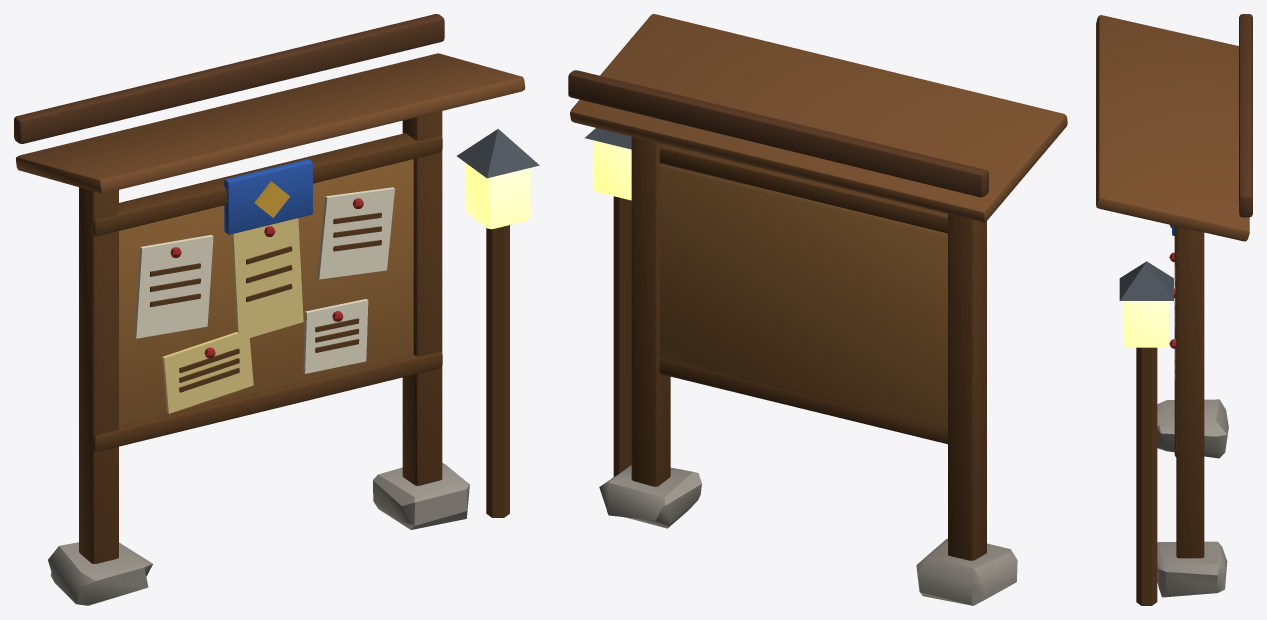
The model's file is tablica_ogloszen.glb.
The picture shows the model from 3 angles, left to right: view 1: azimuth 30°, elevation 25°; view 2: azimuth 150°, elevation 25°; view 3: azimuth 270°, elevation 25°; orthographic projection. The views are drawn at different scales.
Visible parts, largest first — view 1: tablica_ogloszen; view 2: tablica_ogloszen; view 3: tablica_ogloszen.
Boxes of the visible parts, x1,y1,x2,y2 form: tablica_ogloszen: (14,14,539,605); tablica_ogloszen: (568,14,1067,605); tablica_ogloszen: (1096,14,1252,605).
Bounding box in the file's own units: 2.66 × 2.61 × 0.9015.
